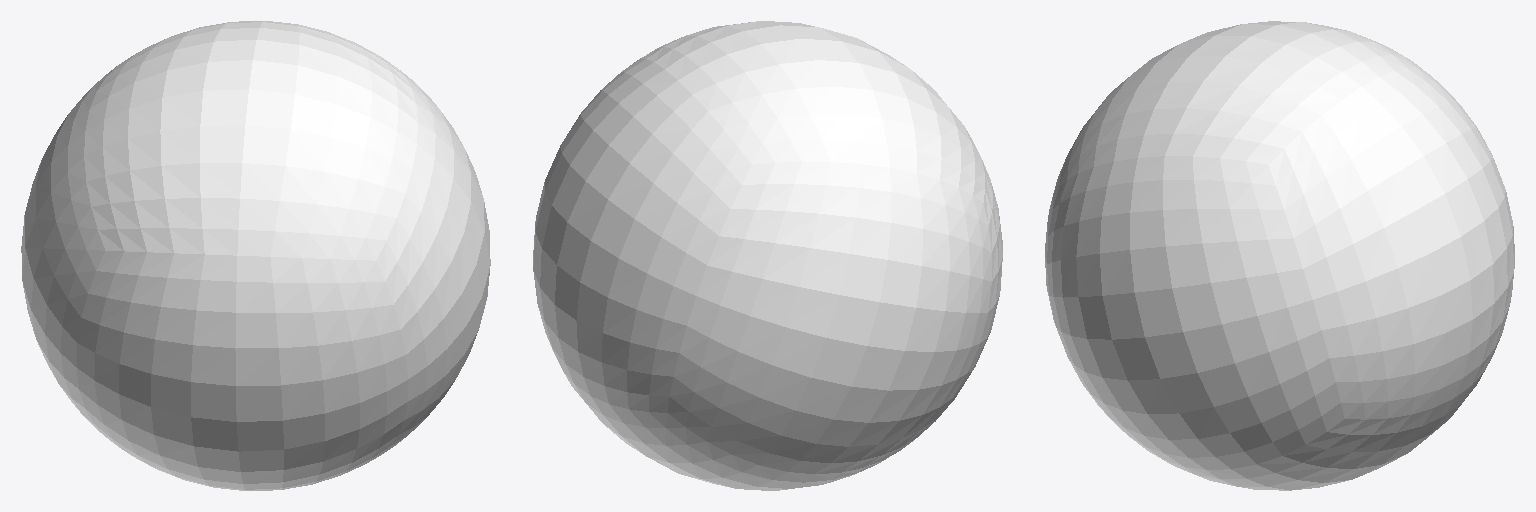
Rendered from Soap_Bubble_convert.obj.
The picture shows the model from 3 angles: view 1: azimuth 30°, elevation 25°; view 2: azimuth 150°, elevation 25°; view 3: azimuth 270°, elevation 25°; orthographic projection.
Parts seen in each view (by area): view 1: bubble7_pivot; view 2: bubble7_pivot; view 3: bubble7_pivot.
Boxes of the visible parts, <box> form: bubble7_pivot: <box>21,21,490,490</box>; bubble7_pivot: <box>533,21,1002,490</box>; bubble7_pivot: <box>1045,21,1514,490</box>.
Size of the model in its own units: 12.45 by 12.46 by 12.46.